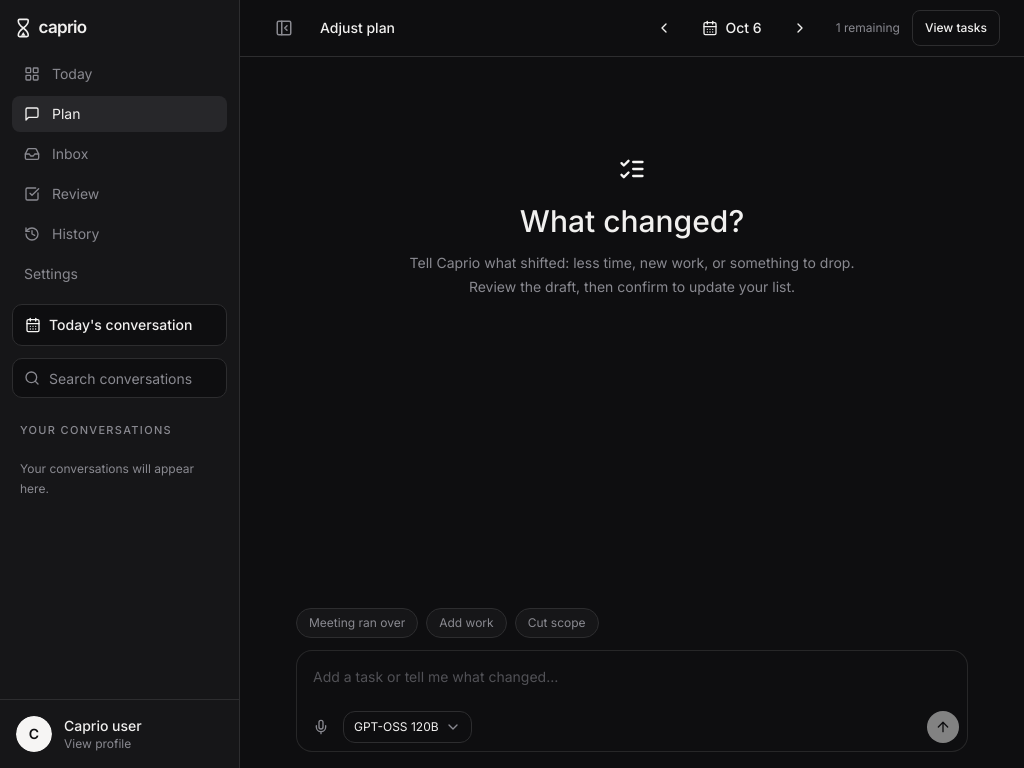
Scenario: Daily planning workflow › seeds interrupt chips on the planner when intent=interrupt
The image size is (1024, 768).
Expected: the element named "Quick interruption prompts" is shown, x1=296 y1=608 x2=598 y2=638
Click the button "Meeting ran over": x=357, y=623 x1=296 y1=608 x2=418 y2=638
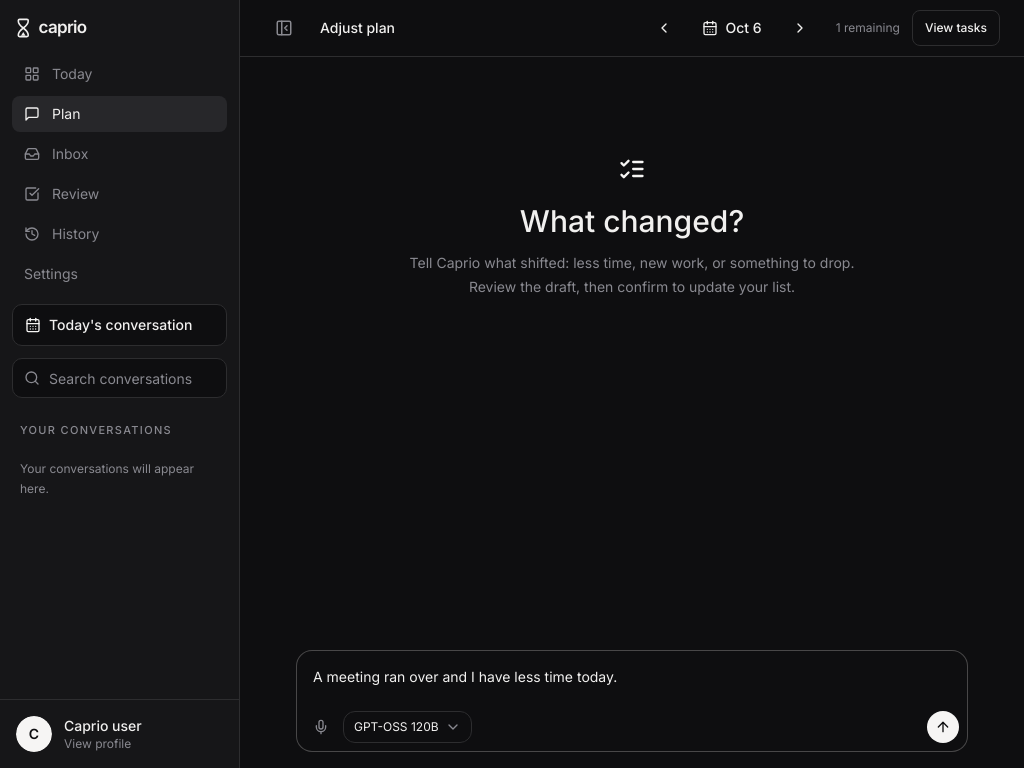
Result: the text box named "Message about your day" holds "A meeting ran over and I have less time today. " at x1=305 y1=659 x2=959 y2=707
